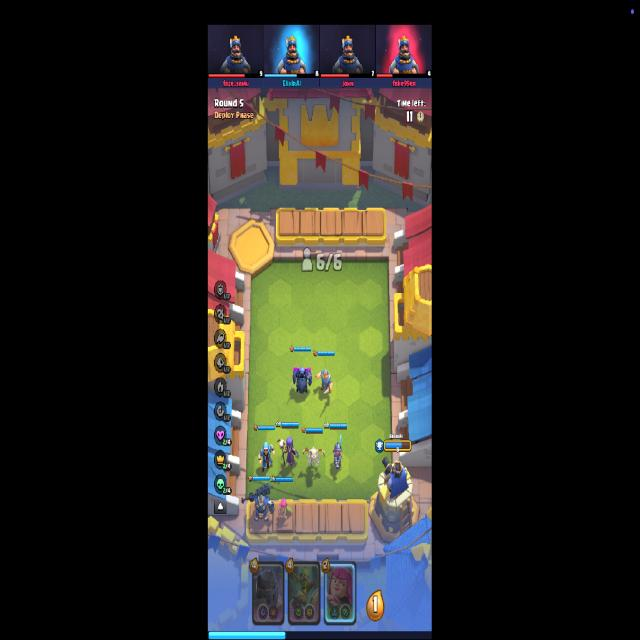archer: (278, 498, 293, 522)
card_archer: (323, 560, 357, 626)
card_goblin_machine: (287, 560, 321, 626)
card_mega_knight: (252, 559, 284, 626)
knight: (316, 369, 333, 396)
musketeer: (333, 435, 343, 470)
pekka: (290, 366, 313, 395)
skeleton_dragon: (302, 446, 325, 468)
skeleton_king: (241, 483, 275, 522)
witch: (277, 436, 299, 469)
wizard: (257, 442, 275, 472)
